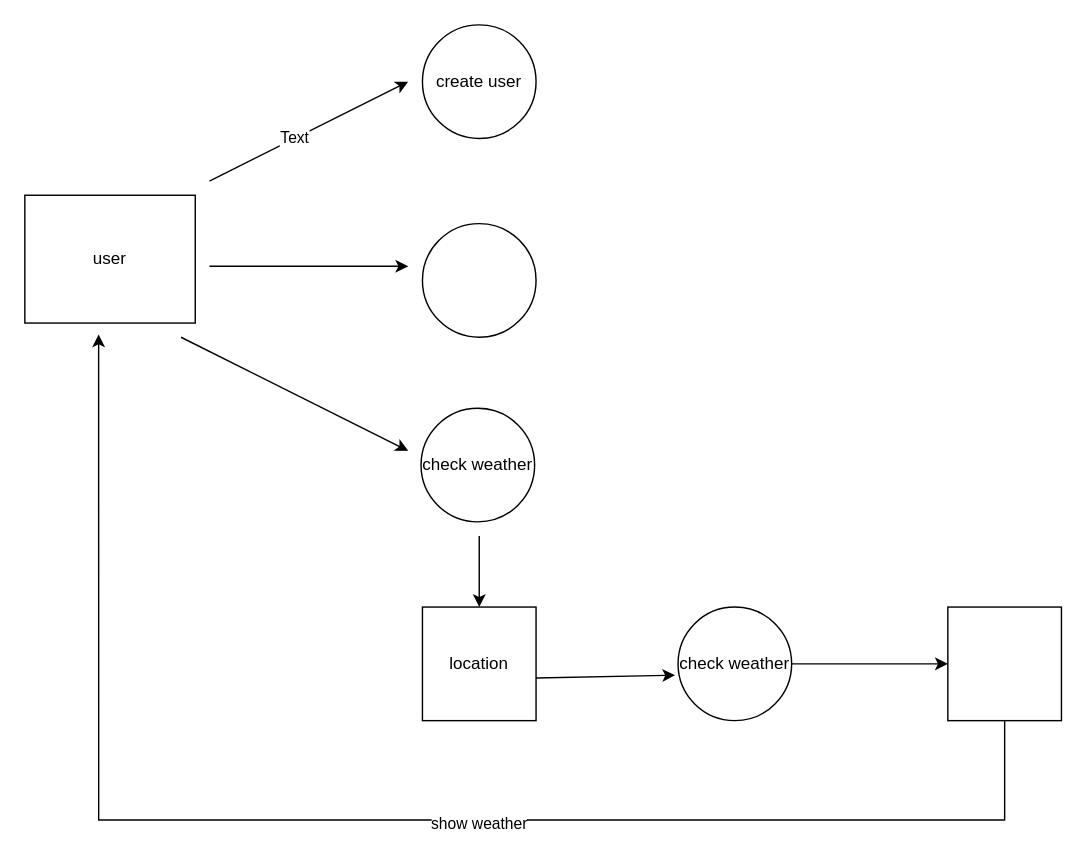
Some shapes in this 1086 by 858 pixel diagram are drawn without their labels. Each missing label, with the centre of its shape:
login: point 478,279
weather databace: point 1003,663
